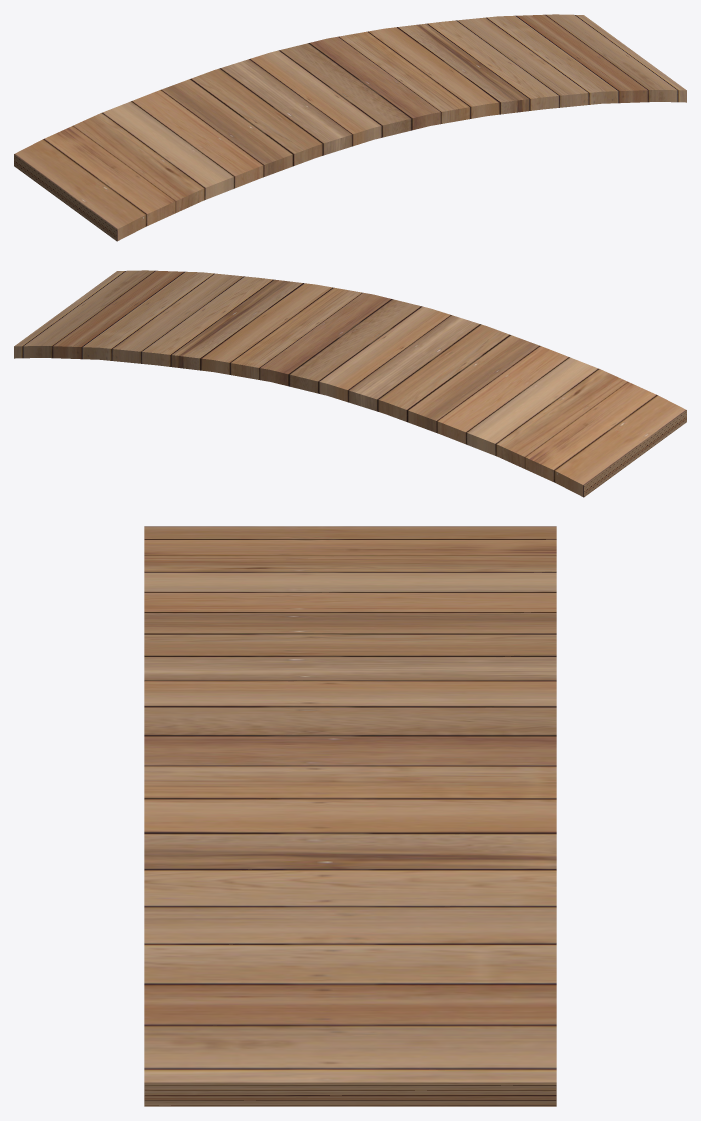
The model's file is Hashi_Color.fbx.
The picture shows the model from 3 angles, top to bottom: view 1: azimuth 30°, elevation 25°; view 2: azimuth 150°, elevation 25°; view 3: azimuth 270°, elevation 25°; orthographic projection. The views are drawn at different scales.
Parts seen in each view (by area): view 1: polySurface44; view 2: polySurface44; view 3: polySurface44.
Part boxes in pixels (x1,y1,x2,y2): polySurface44: (14, 14, 686, 241); polySurface44: (14, 270, 686, 497); polySurface44: (144, 526, 556, 1106).
Size of the model in its own units: 990 by 84.93 by 310.
1 material, 1 textured.
